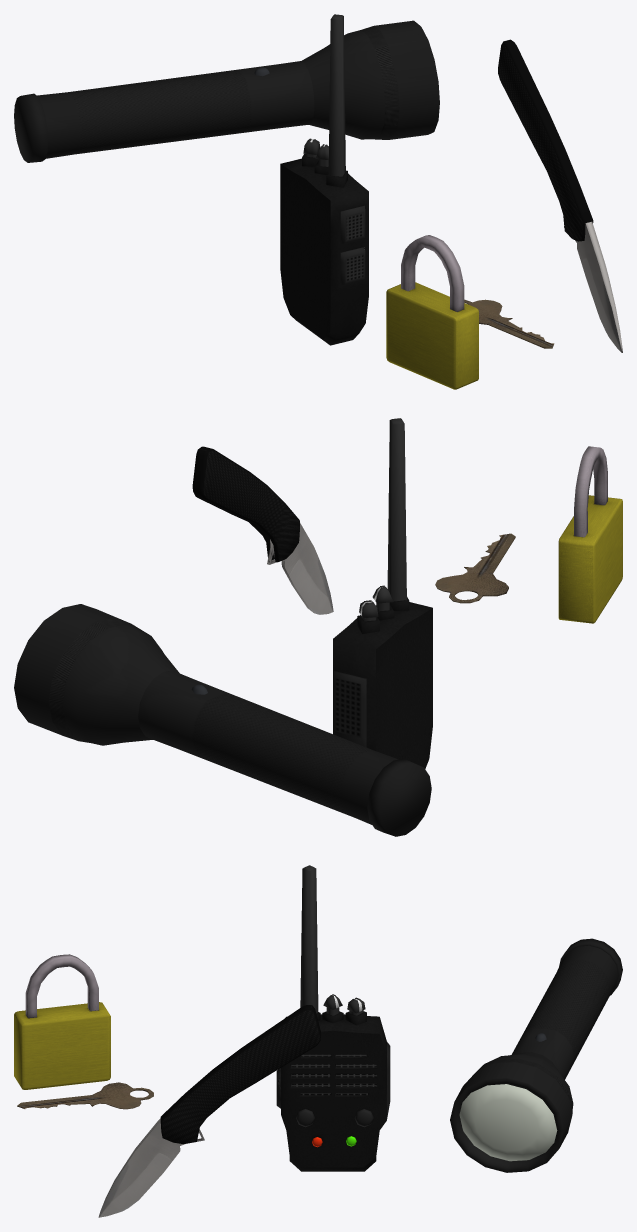
The model's file is HorrorKit_MultiTexture-V2.0.obj.
3 views of the same model, one above another, from view 1: azimuth 30°, elevation 25°; view 2: azimuth 150°, elevation 25°; view 3: azimuth 270°, elevation 25° (orthographic). The views are drawn at different scales.
Parts seen in each view (by area): view 1: Flashlight-V2.0, Radio-V2.0.001, Lock_Body-V2.0, Knife_Handle-V2.0, Radio-V2.0_Antenna.001, Knife_Blade-V2.0, Lock_Bar-V2.0, Key-V2.0; view 2: Flashlight-V2.0, Radio-V2.0.001, Lock_Body-V2.0, Knife_Handle-V2.0, Radio-V2.0_Antenna.001, Knife_Blade-V2.0, Key-V2.0, Lock_Bar-V2.0; view 3: Flashlight-V2.0, Radio-V2.0.001, Lock_Body-V2.0, Knife_Handle-V2.0, Knife_Blade-V2.0, Radio-V2.0_Antenna.001, Lock_Bar-V2.0, Key-V2.0, Radio-V2.0_Speaker.001.
Part boxes in pixels (x1,y1,x2,y2): Flashlight-V2.0: (14,20,439,162); Radio-V2.0.001: (280,153,368,345); Lock_Body-V2.0: (386,282,478,389); Knife_Handle-V2.0: (498,39,593,241); Radio-V2.0_Antenna.001: (328,14,345,176); Knife_Blade-V2.0: (564,221,622,352); Lock_Bar-V2.0: (401,235,464,311); Key-V2.0: (464,299,554,348); Flashlight-V2.0: (14,604,431,836); Radio-V2.0.001: (333,597,432,768); Lock_Body-V2.0: (558,495,622,623); Knife_Handle-V2.0: (192,446,299,562); Radio-V2.0_Antenna.001: (387,418,406,601); Knife_Blade-V2.0: (267,523,333,614); Key-V2.0: (435,533,515,603); Lock_Bar-V2.0: (574,446,607,537); Flashlight-V2.0: (450,938,622,1172); Radio-V2.0.001: (276,1011,390,1171); Lock_Body-V2.0: (14,1002,110,1089); Knife_Handle-V2.0: (160,1005,320,1143); Knife_Blade-V2.0: (98,1118,204,1217); Radio-V2.0_Antenna.001: (300,865,318,1013); Lock_Bar-V2.0: (25,954,98,1018); Key-V2.0: (17,1082,153,1109); Radio-V2.0_Speaker.001: (291,1054,377,1095).
Size of the model in its own units: 5.72 by 4.78 by 8.82.
